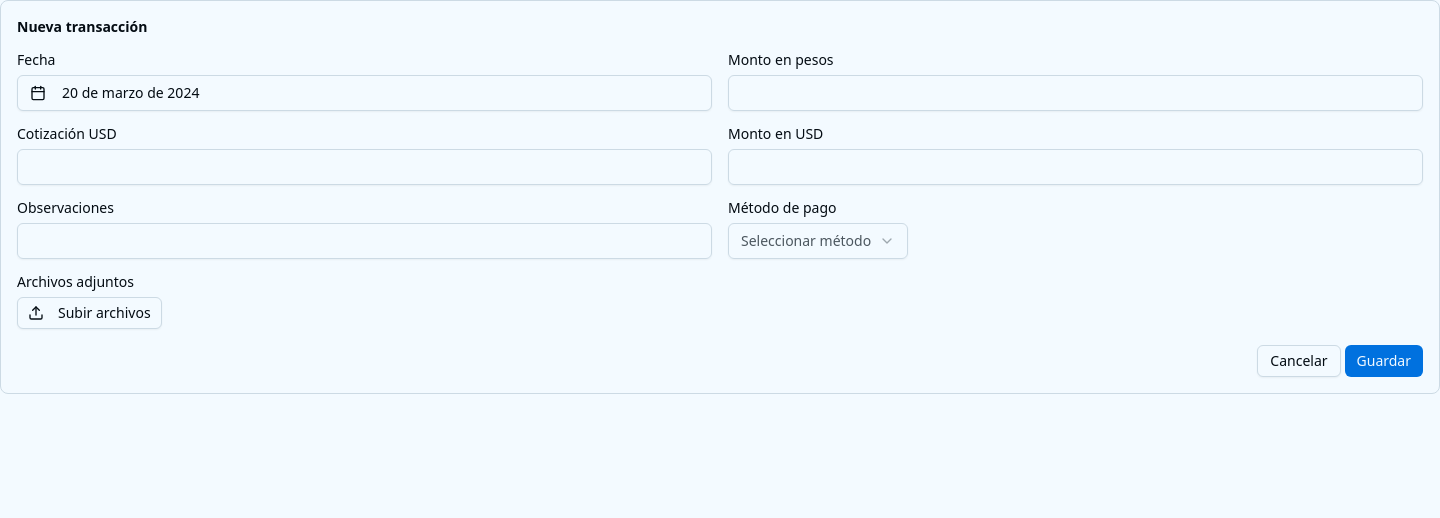
Test: AddTransactionSection › Payment Method Selector › should render all payment method options
What coordinates should you click on to do the following:
click the dropdown
I would click on:
 (818, 241)
Its box is x1=728 y1=223 x2=908 y2=259.
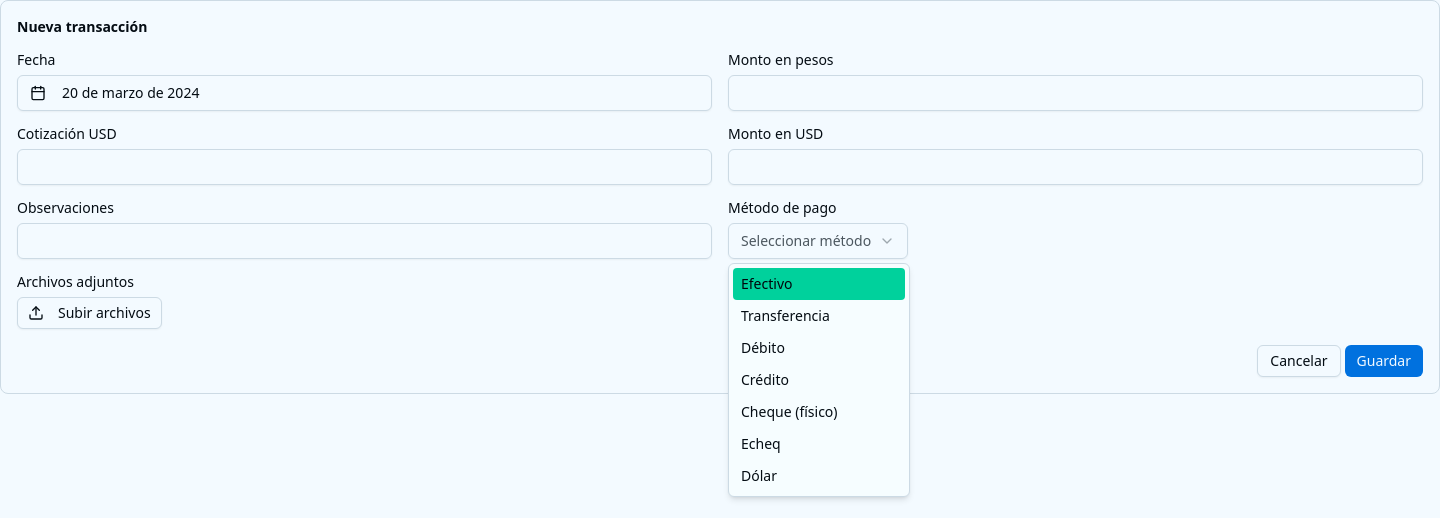
Now the option "Efectivo" is shown, box x1=733 y1=268 x2=905 y2=300
Now the option "Transferencia" is shown, box x1=741 y1=306 x2=830 y2=325
Now the option "Débito" is shown, box x1=741 y1=338 x2=785 y2=357
